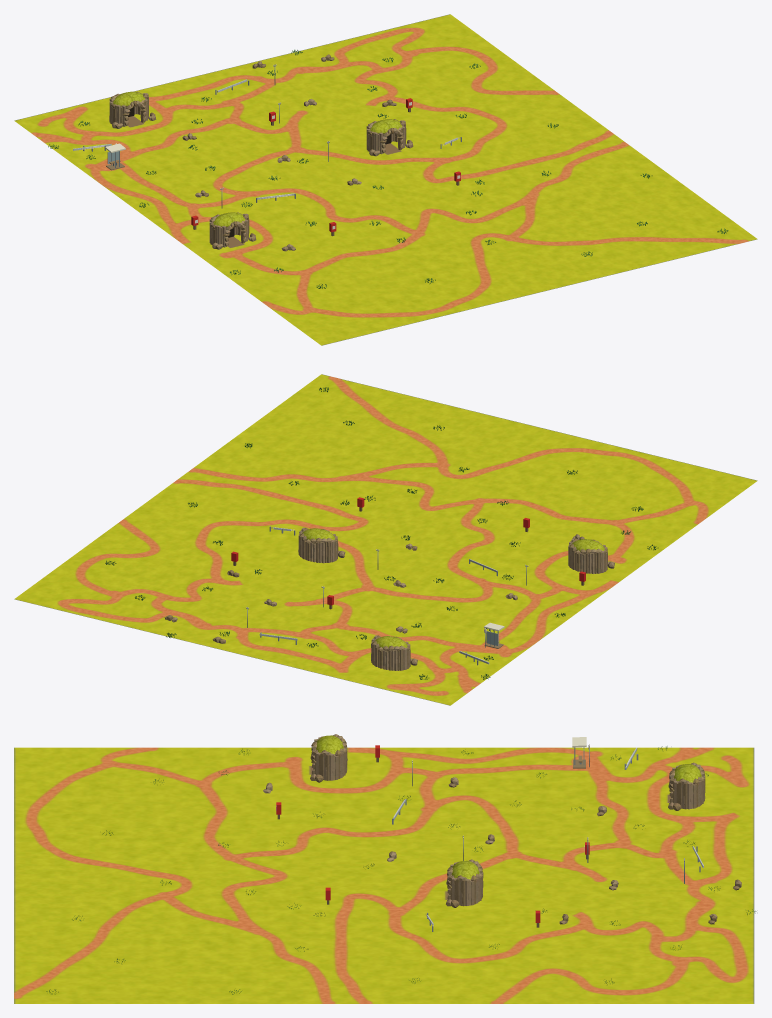
Rendered from terrain-props.glb.
3 views of the same model, one above another, from view 1: azimuth 30°, elevation 25°; view 2: azimuth 150°, elevation 25°; view 3: azimuth 270°, elevation 25° (orthographic). The views are drawn at different scales.
Parts seen in each view (by area): view 1: hm02_ground_support, hm02_caves_batched, hm02_fixed_props_batched; view 2: hm02_ground_support, hm02_caves_batched, hm02_fixed_props_batched; view 3: hm02_ground_support, hm02_caves_batched, hm02_fixed_props_batched.
Part boxes in pixels (box(x1,y1,x2,y2)): hm02_ground_support: box(14, 14, 757, 345); hm02_caves_batched: box(109, 91, 413, 249); hm02_fixed_props_batched: box(48, 49, 728, 288); hm02_ground_support: box(14, 374, 757, 705); hm02_caves_batched: box(298, 527, 614, 670); hm02_fixed_props_batched: box(105, 387, 658, 679); hm02_ground_support: box(14, 747, 754, 1003); hm02_caves_batched: box(310, 734, 705, 907); hm02_fixed_props_batched: box(46, 737, 756, 994).
Size of the model in its own units: 64.3 by 3.77 by 78.5.
3 materials, 2 textured.
